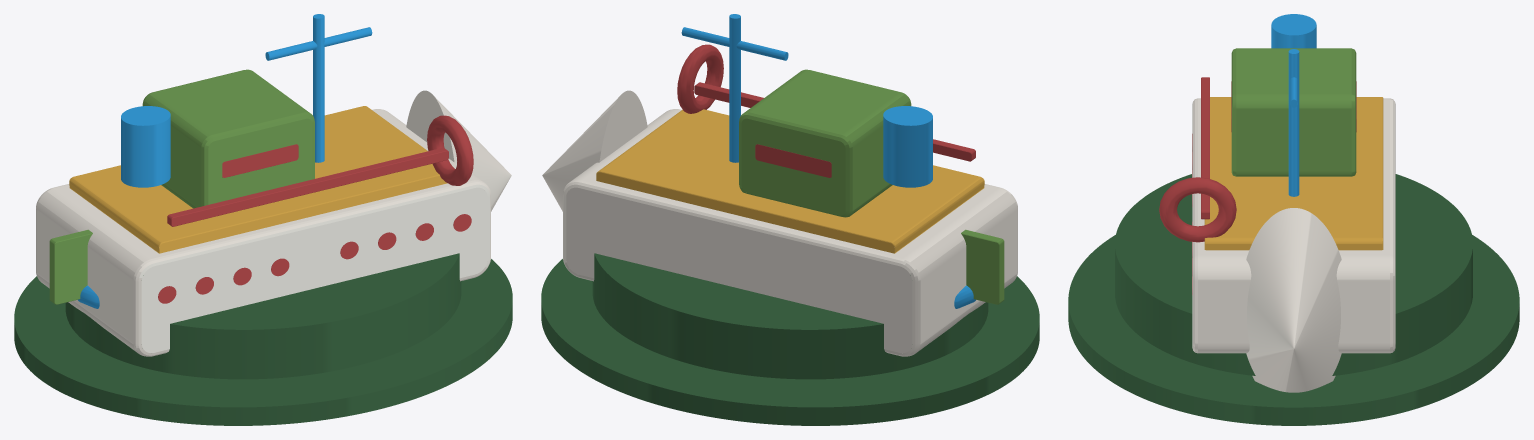
File: 0384_欧洲文明图鉴_中世纪城市.glb
3 renders of one model, left to right at view 1: azimuth 30°, elevation 25°; view 2: azimuth 150°, elevation 25°; view 3: azimuth 270°, elevation 25°, orthographic.
Parts seen in each view (by area): view 1: card_0384; view 2: card_0384; view 3: card_0384.
Part boxes in pixels (left/top/right/bottom): card_0384: left=14, top=14, right=512, bottom=425; card_0384: left=541, top=14, right=1039, bottom=425; card_0384: left=1068, top=14, right=1519, bottom=425.
Size of the model in its own units: 1.59 by 1 by 1.34.
